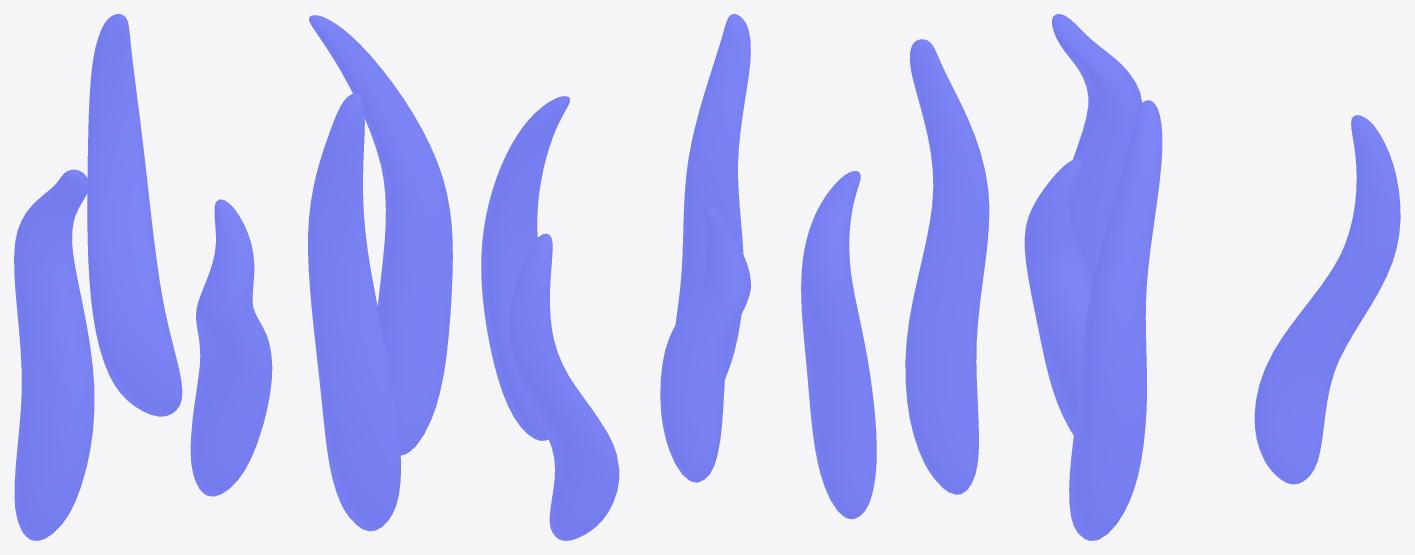
The model's file is grass_type_04.glb.
3 renders of one model, left to right at view 1: azimuth 30°, elevation 25°; view 2: azimuth 150°, elevation 25°; view 3: azimuth 270°, elevation 25°, orthographic. The views are drawn at different scales.
Visible parts, largest first — view 1: grass_mesh; view 2: grass_mesh; view 3: grass_mesh.
Boxes of the visible parts, x1,y1,x2,y2 form: grass_mesh: [14, 14, 452, 540]; grass_mesh: [481, 14, 876, 540]; grass_mesh: [905, 14, 1400, 540].
Size of the model in its own units: 0.7206 by 0.7271 by 0.7359.
